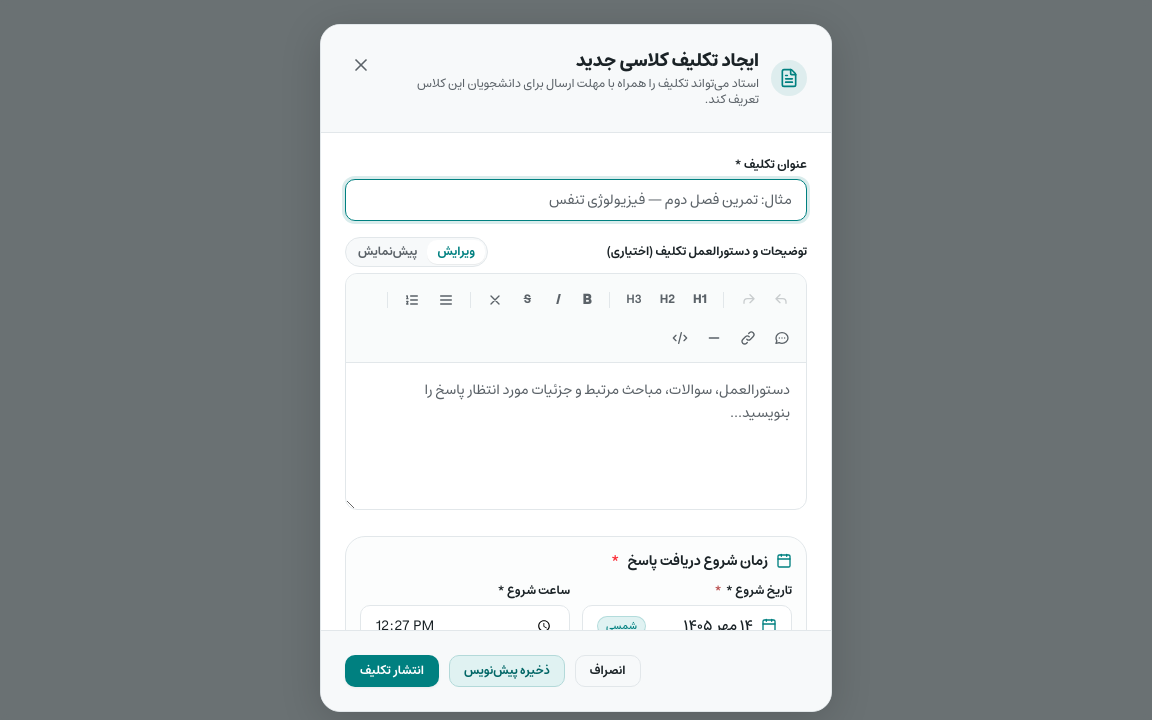
it: Teacher Assignment Creation & Editing — Persian Date Picker Integration › validates that dueAt must be strictly after startsAt based on real timestamp
Fill Title
Type "تکلیف نامعتبر زمانی" into the field labelled "عنوان تکلیف *" at (576, 200), box [345,179,807,221]
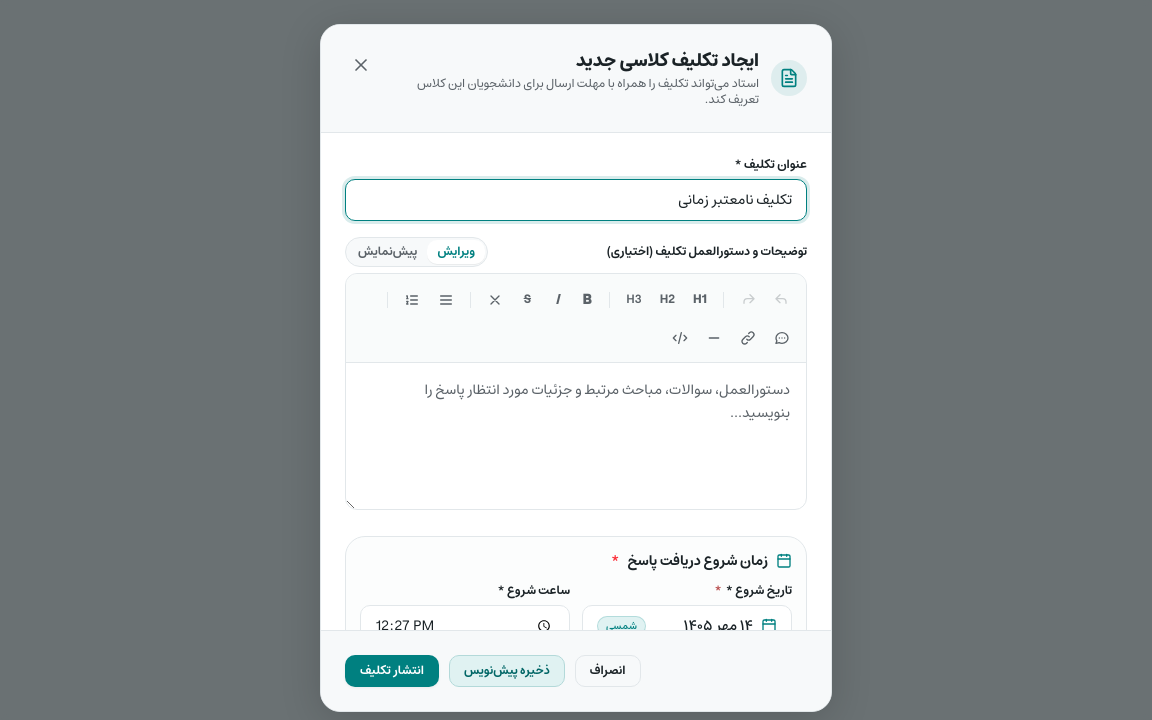
Click the button with aria-label "تاریخ شروع *" at (687, 626), box [582,604,792,647]
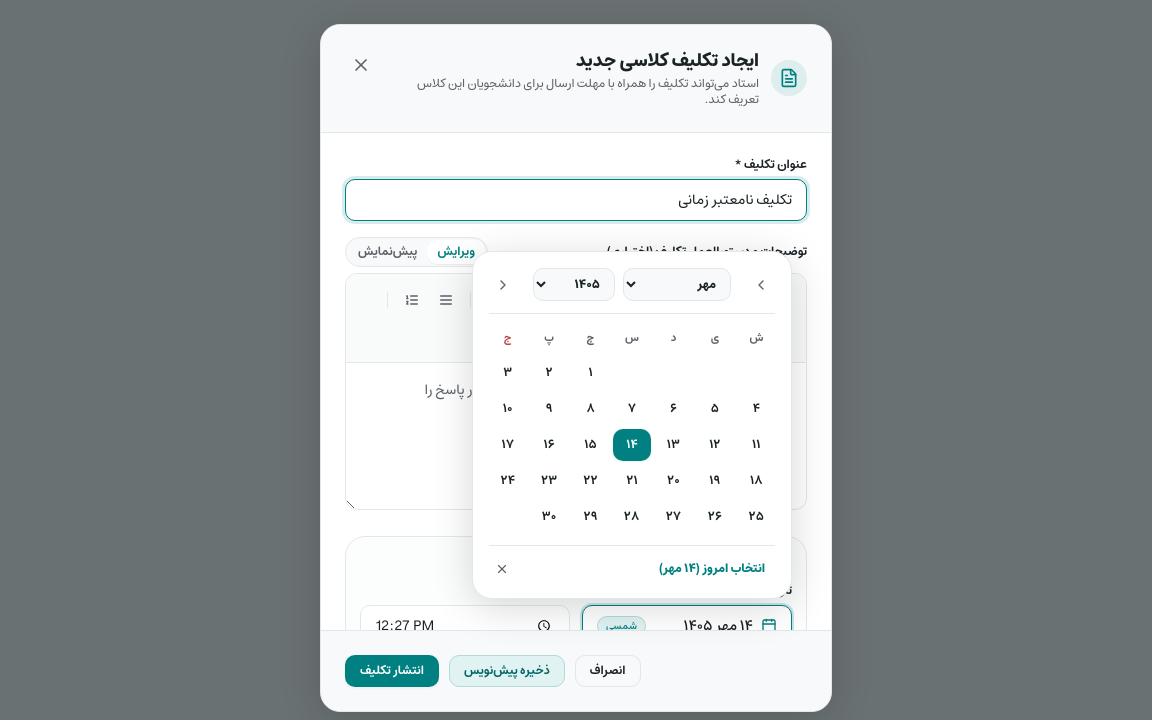
Select "مهر" in the dropdown named "انتخاب ماه" at (677, 284), box [623,268,731,301]
Click the button named "۲۰ مهر" at (673, 480), box [655,464,692,496]
(page scrolled)
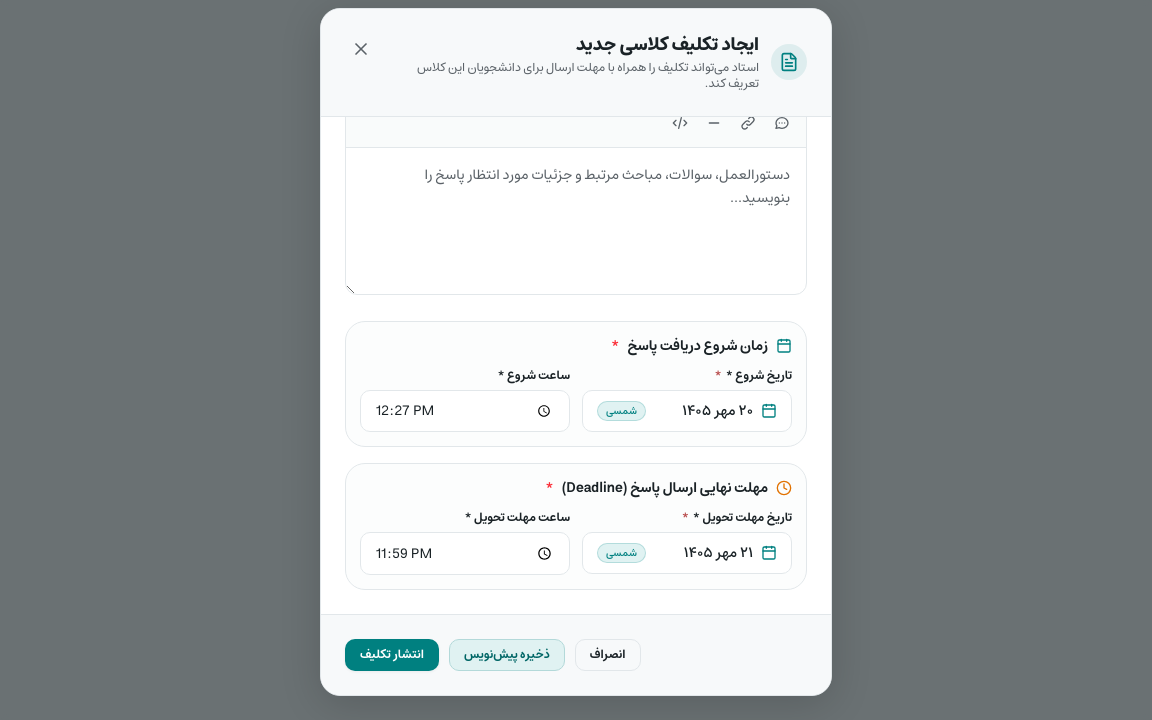
Click the button with aria-label "تاریخ مهلت تحویل *" at (687, 553), box [582,532,792,574]
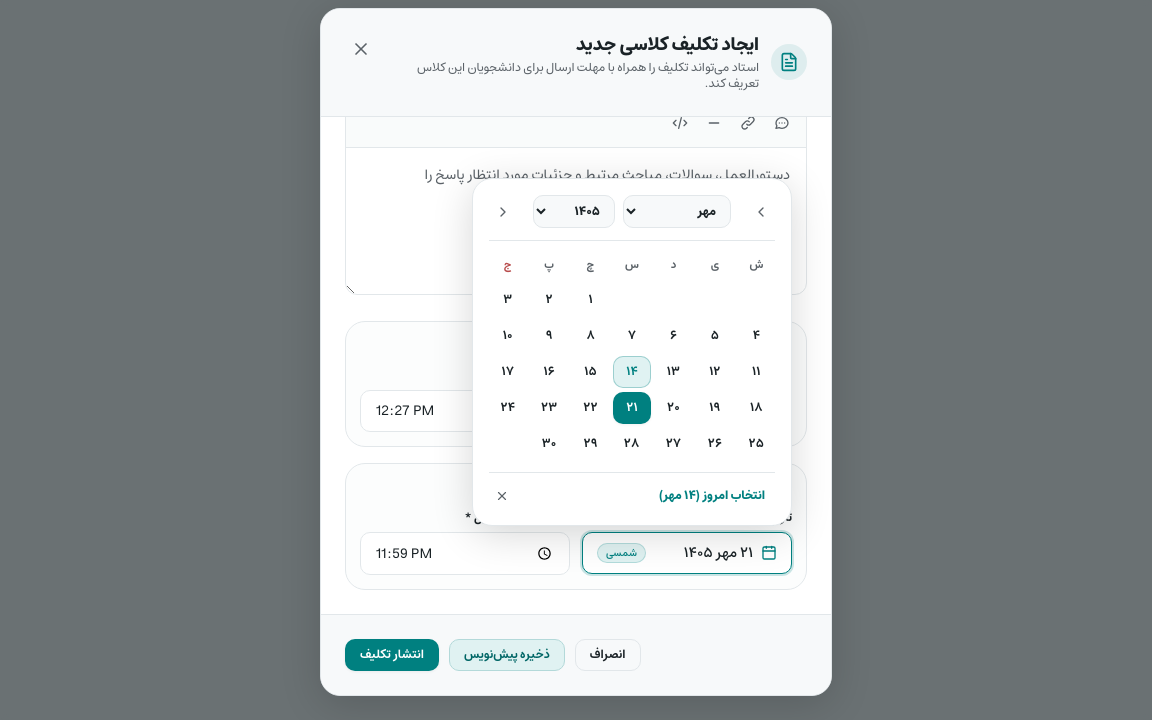
Select "مهر" in the dropdown named "انتخاب ماه" at (677, 212), box [623,195,731,228]
Click the button named "۱۵ مهر" at (591, 372), box [572,356,609,388]
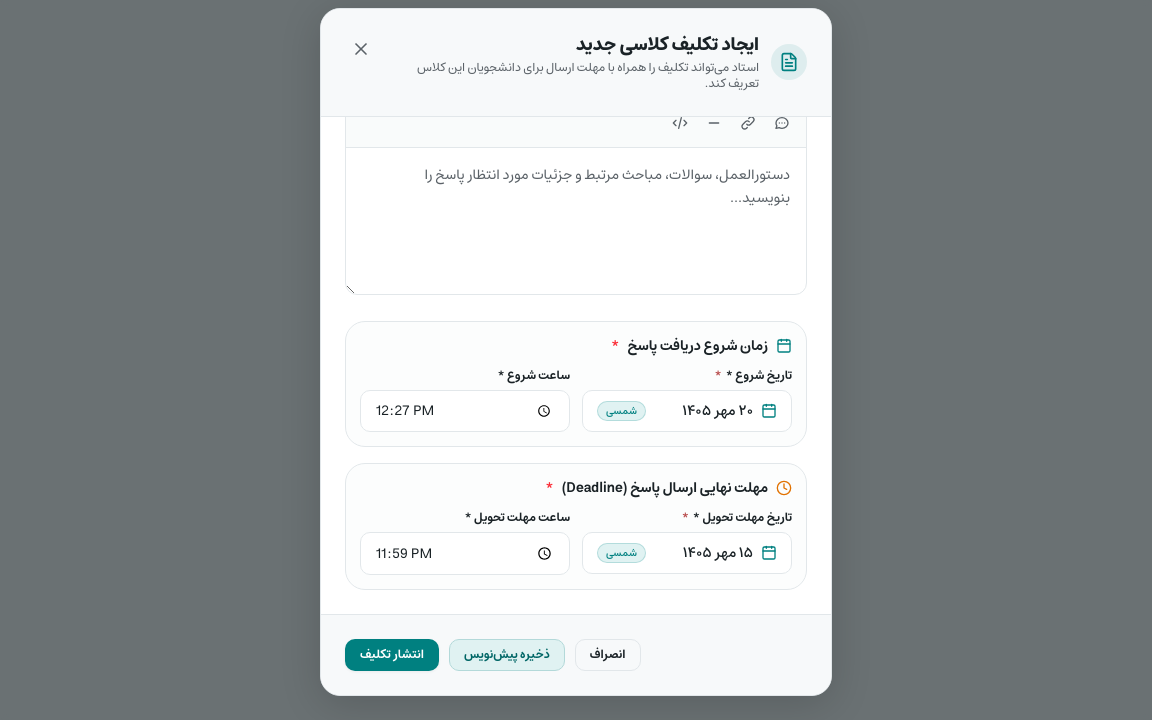
Try submitting
Click the button "انتشار تکلیف" at (392, 655), box [345,639,439,671]
(page scrolled)
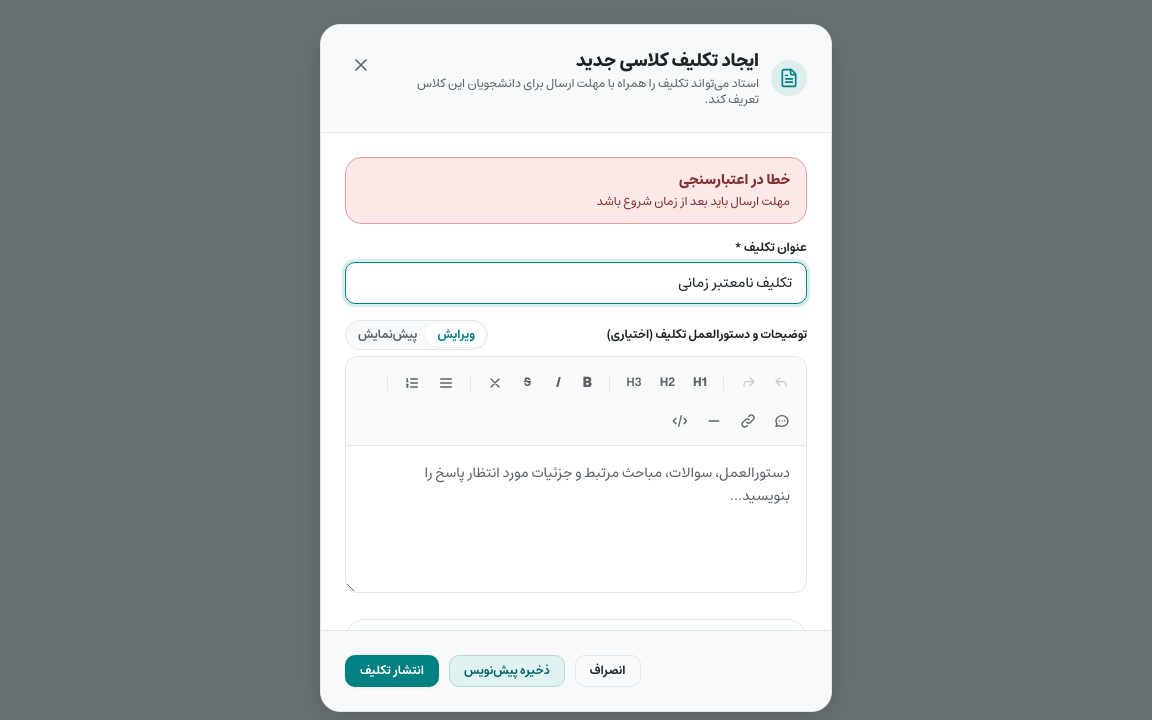
Result: the text "مهلت ارسال باید بعد از زمان شروع باشد" is shown at [596,192,790,211]
